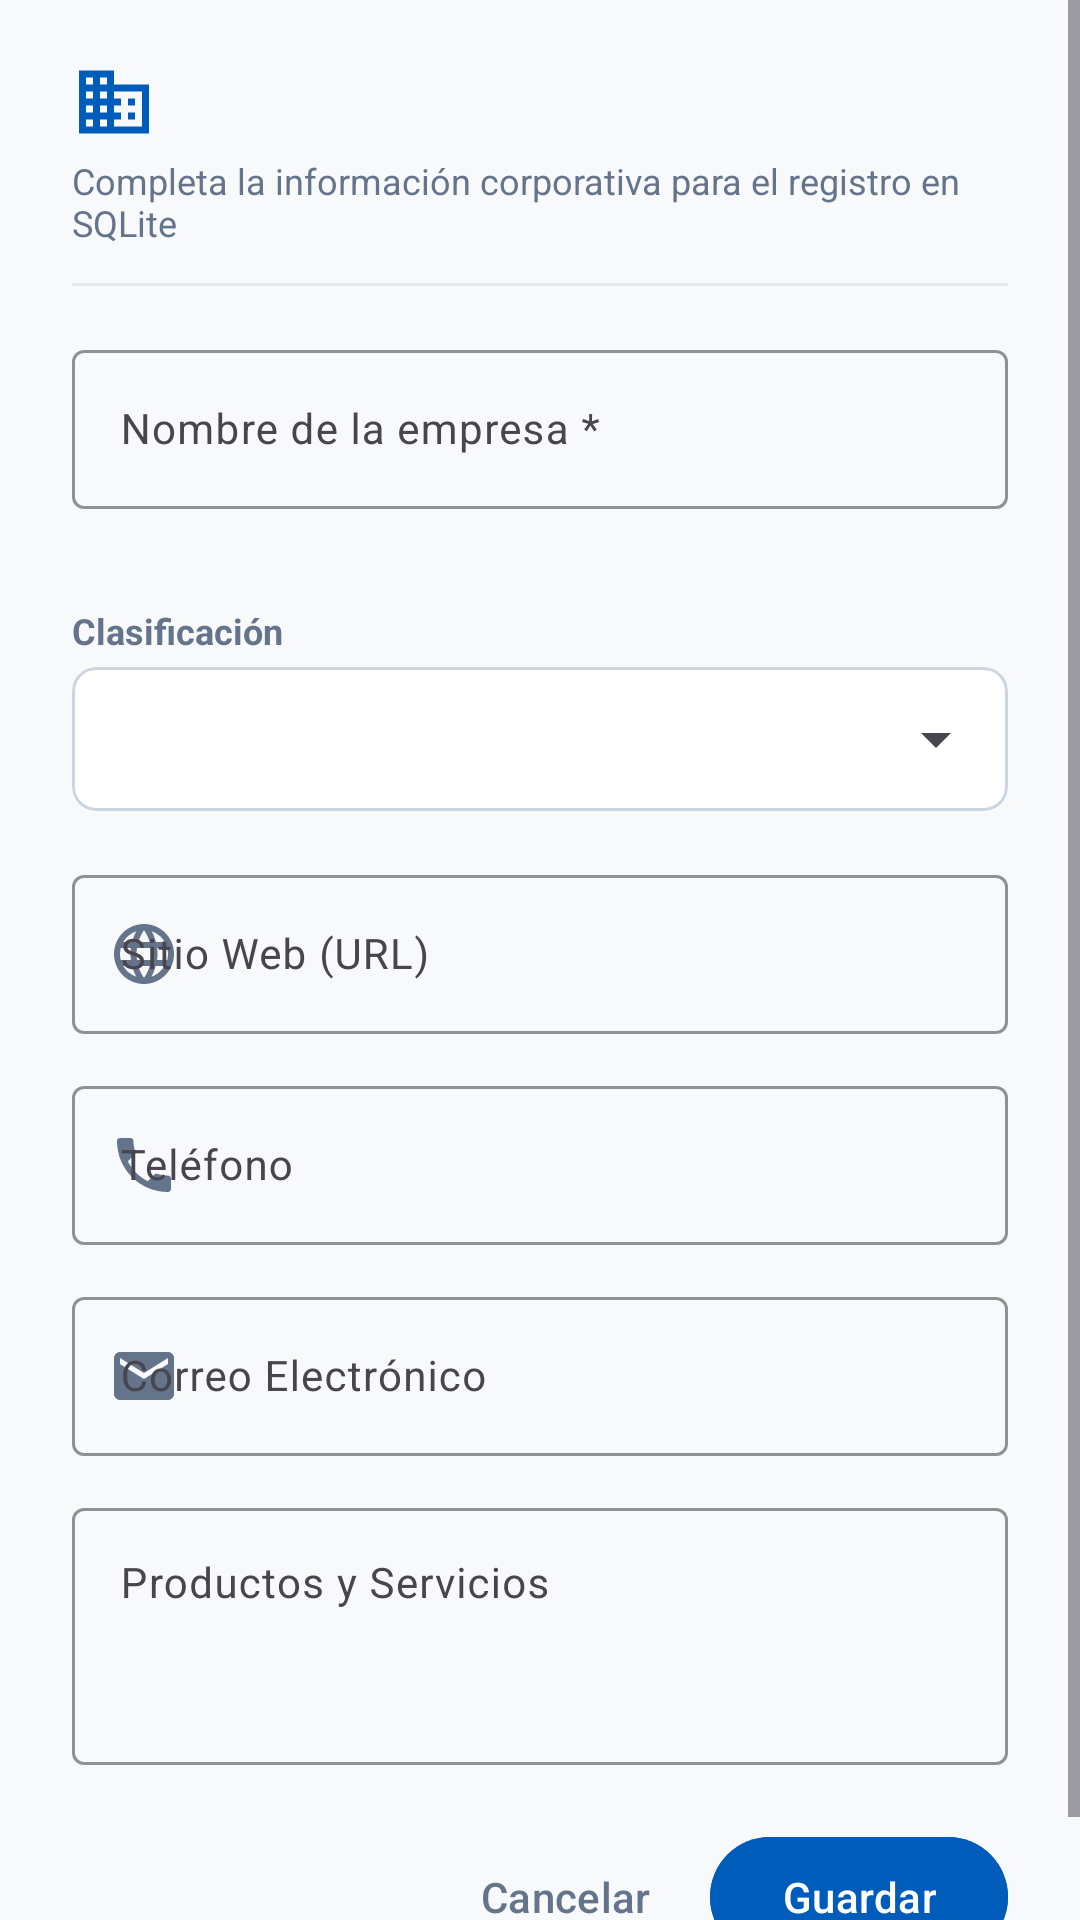

Icons on this 1080 x 1920 Android screen, each with its box as (x1, y1, x2, y2):
business: (79, 70, 149, 134)
